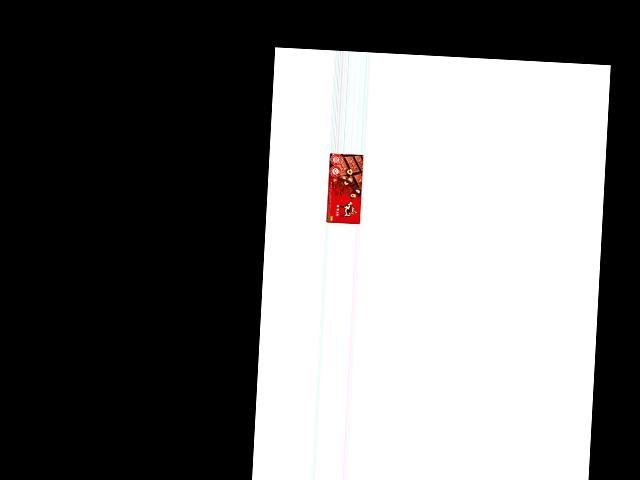chocolate: (325, 153, 363, 224)
